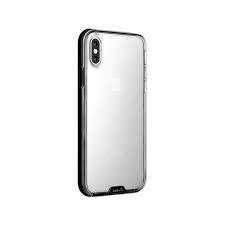iphone: (74, 25, 149, 199)
